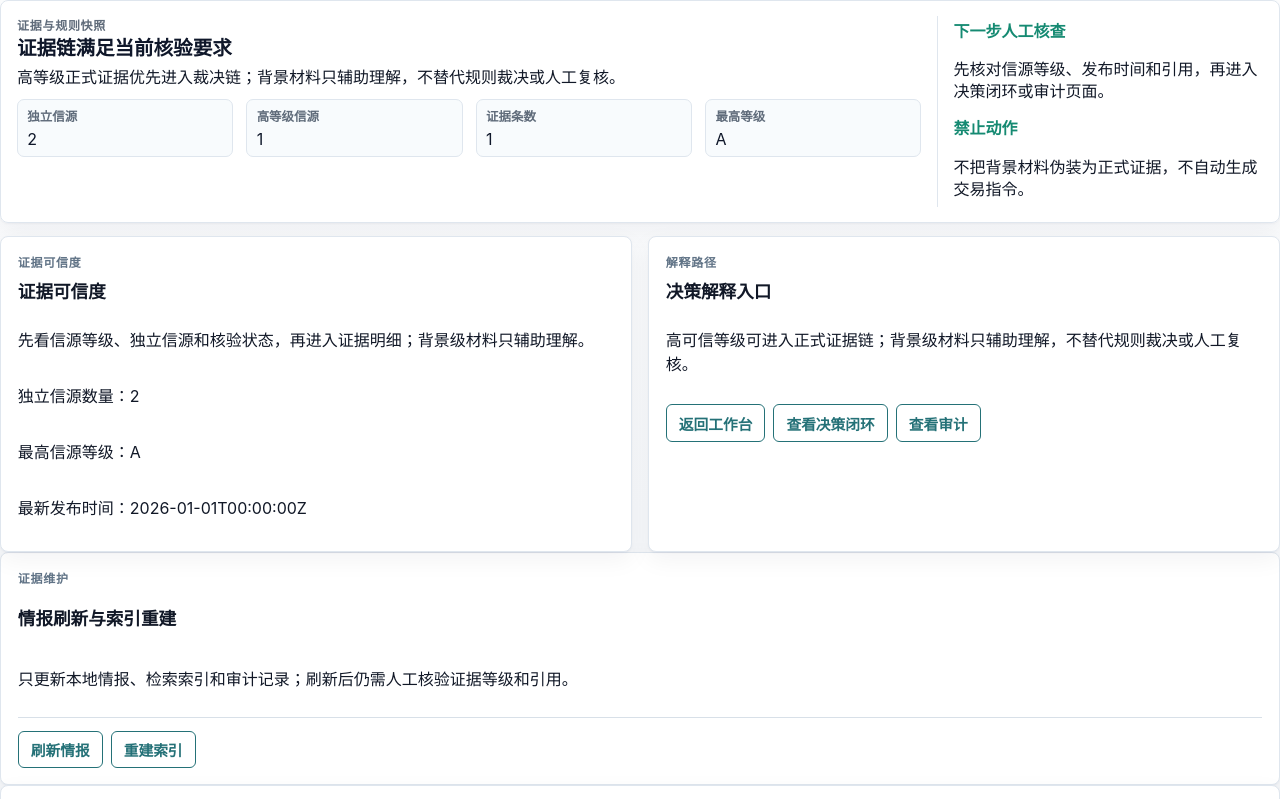
Test: EvidencePage › supports evidence refresh, index rebuild and source verification panel
This screenshot has width=1280, height=799.
Expected: the heading "证据可信度" is shown, [18,281,106,302]
Expected: the text "先看信源等级、独立信源和核验状态，再进入证据明细；背景级材料只辅助理解。" is shown, [18,327,614,351]
Click the button "刷新情报": click(60, 750) [18,731,103,768]
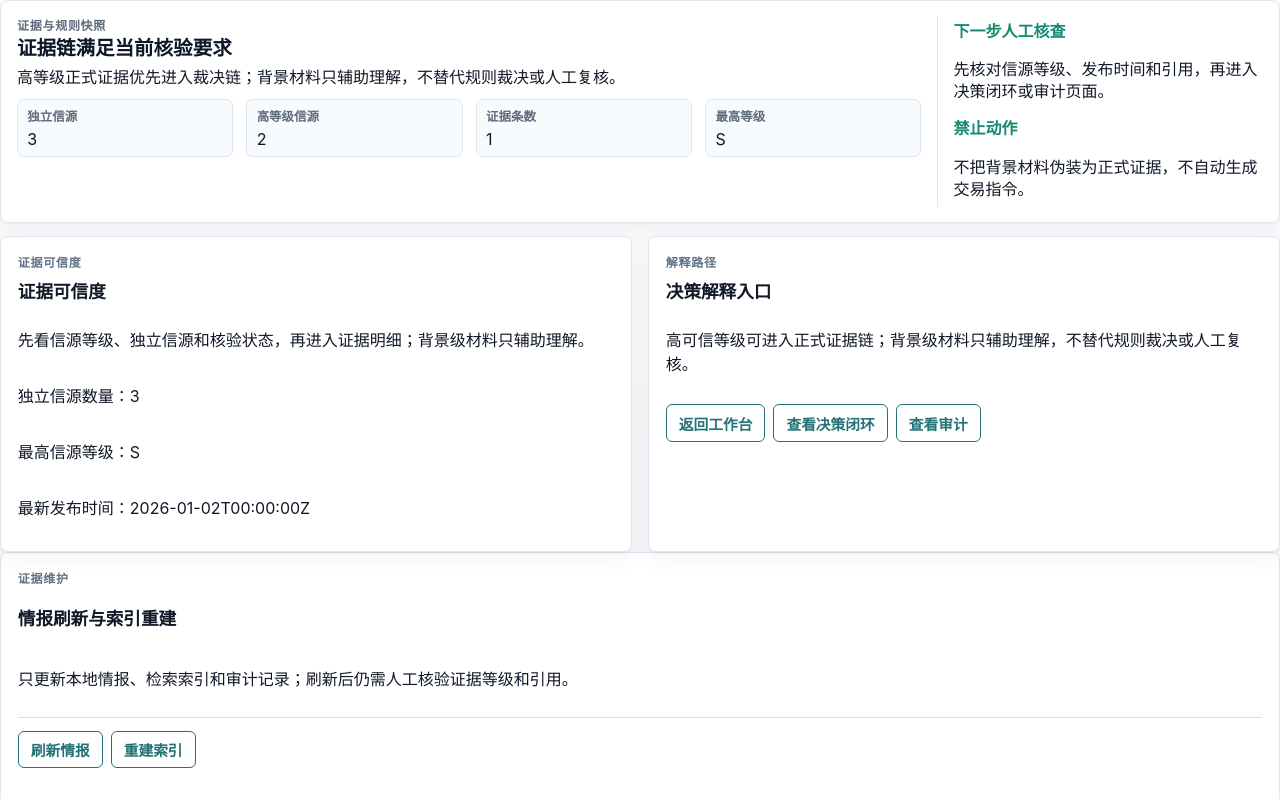
Click the button "重建索引": click(153, 750) [111,731,196,768]
(page scrolled)
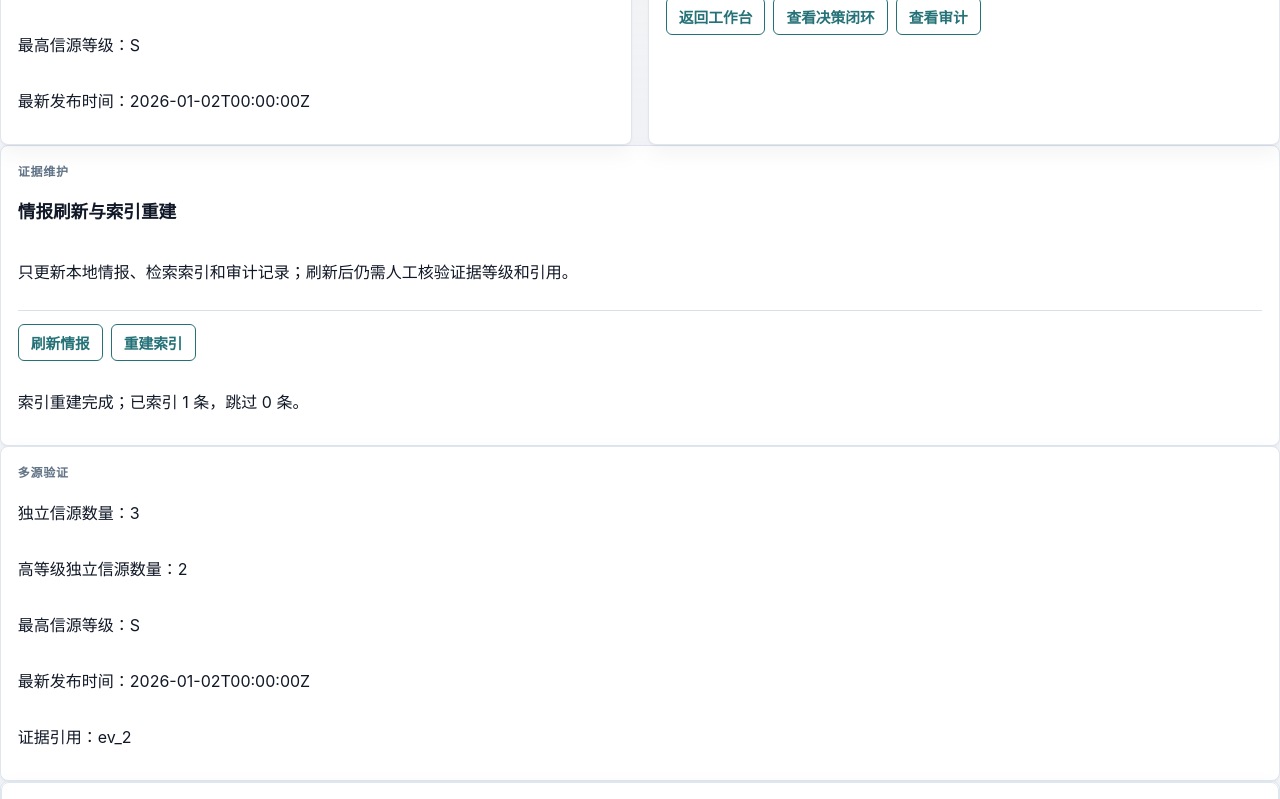
Expected: the text "索引重建完成；已索引 1 条，跳过 0 条。" is shown, [18,392,308,412]
